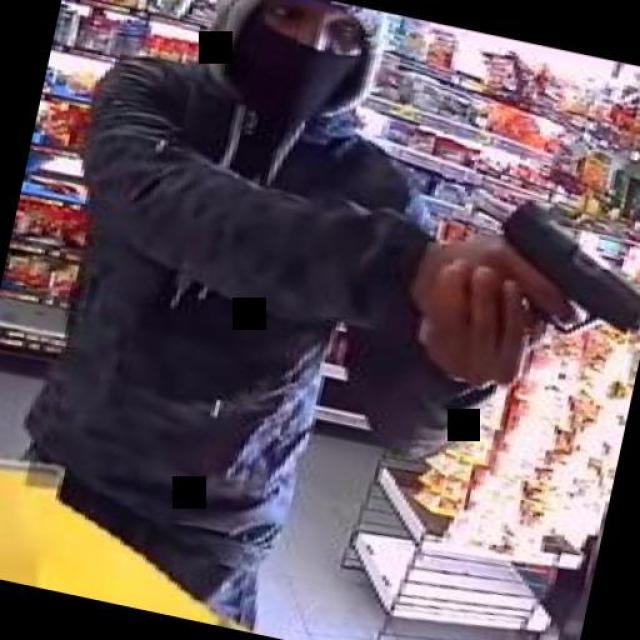gun: (460, 190, 640, 364)
